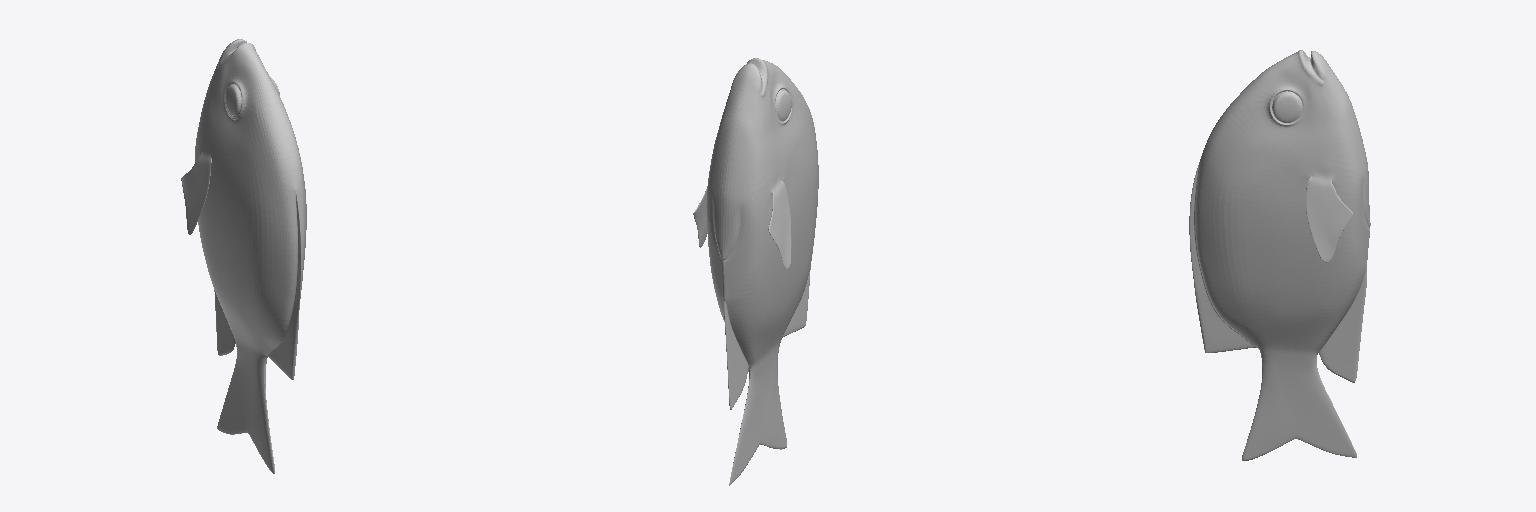
Rendered from 13016_Yellowtai_ Damselfish_v2_l3.obj.
3 views of the same model, side by side, from view 1: azimuth 30°, elevation 25°; view 2: azimuth 150°, elevation 25°; view 3: azimuth 270°, elevation 25° (orthographic).
Parts seen in each view (by area): view 1: 13016_Yellowtai__Damselfish_v1; view 2: 13016_Yellowtai__Damselfish_v1; view 3: 13016_Yellowtai__Damselfish_v1.
Boxes of the visible parts, x1=… form: 13016_Yellowtai__Damselfish_v1: x1=181, y1=39, x2=306, y2=473; 13016_Yellowtai__Damselfish_v1: x1=693, y1=58, x2=818, y2=485; 13016_Yellowtai__Damselfish_v1: x1=1189, y1=50, x2=1370, y2=460.
Bounding box in the file's own units: 0.7488 × 3.36 × 1.34.